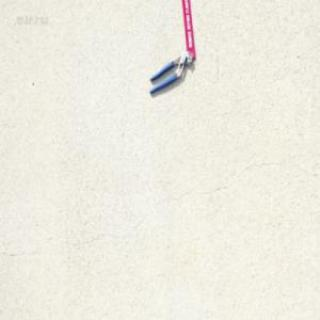LuggageTagtrack_idkeyframe: (181, 0, 196, 58)
Pliertrack_idkeyframe: (148, 48, 193, 94)
